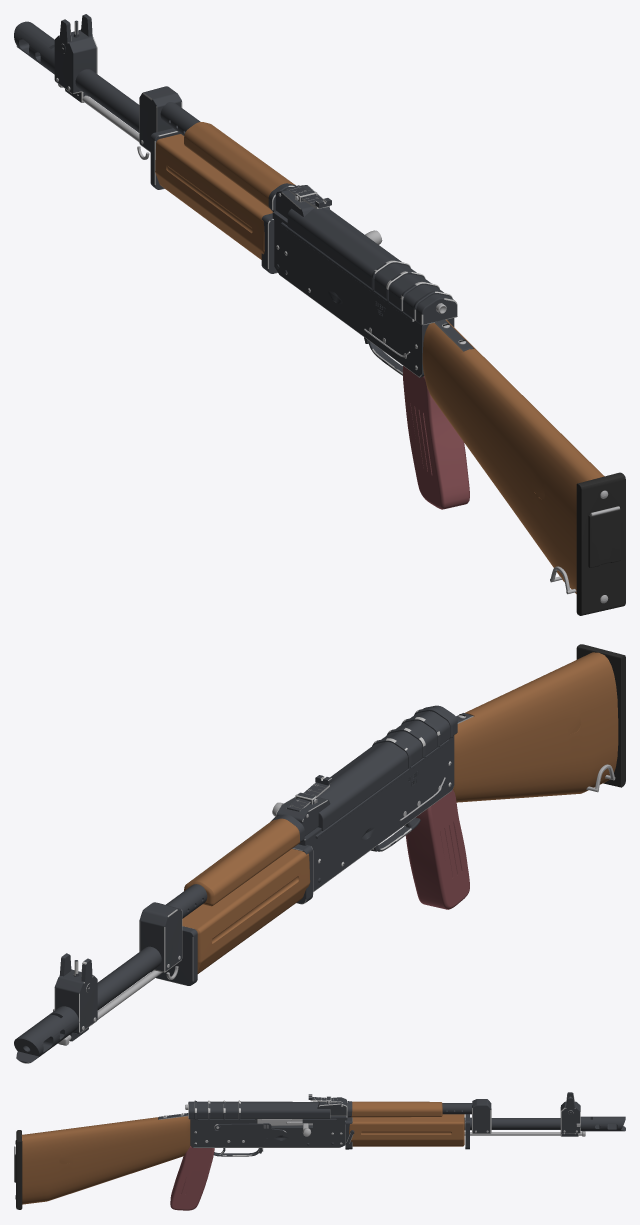
3 views of the same model, one above another, from view 1: azimuth 30°, elevation 25°; view 2: azimuth 150°, elevation 25°; view 3: azimuth 270°, elevation 25° (orthographic). The views are drawn at different scales.
Parts seen in each view (by area): view 1: static, static_butt; view 2: static, static_butt; view 3: static, static_butt, selector, bolt_carrier.
Part boxes in pixels (left/top/right/bottom): static: left=14, top=14, right=473, bottom=509; static_butt: left=422, top=319, right=625, bottom=615; static: left=14, top=705, right=473, bottom=1063; static_butt: left=453, top=644, right=625, bottom=802; static: left=158, top=1092, right=625, bottom=1210; static_butt: left=14, top=1116, right=190, bottom=1209; selector: left=214, top=1123, right=286, bottom=1134; bolt_carrier: left=257, top=1119, right=312, bottom=1136.
Bounding box in the file's own units: 0.0761 × 0.2033 × 1.
